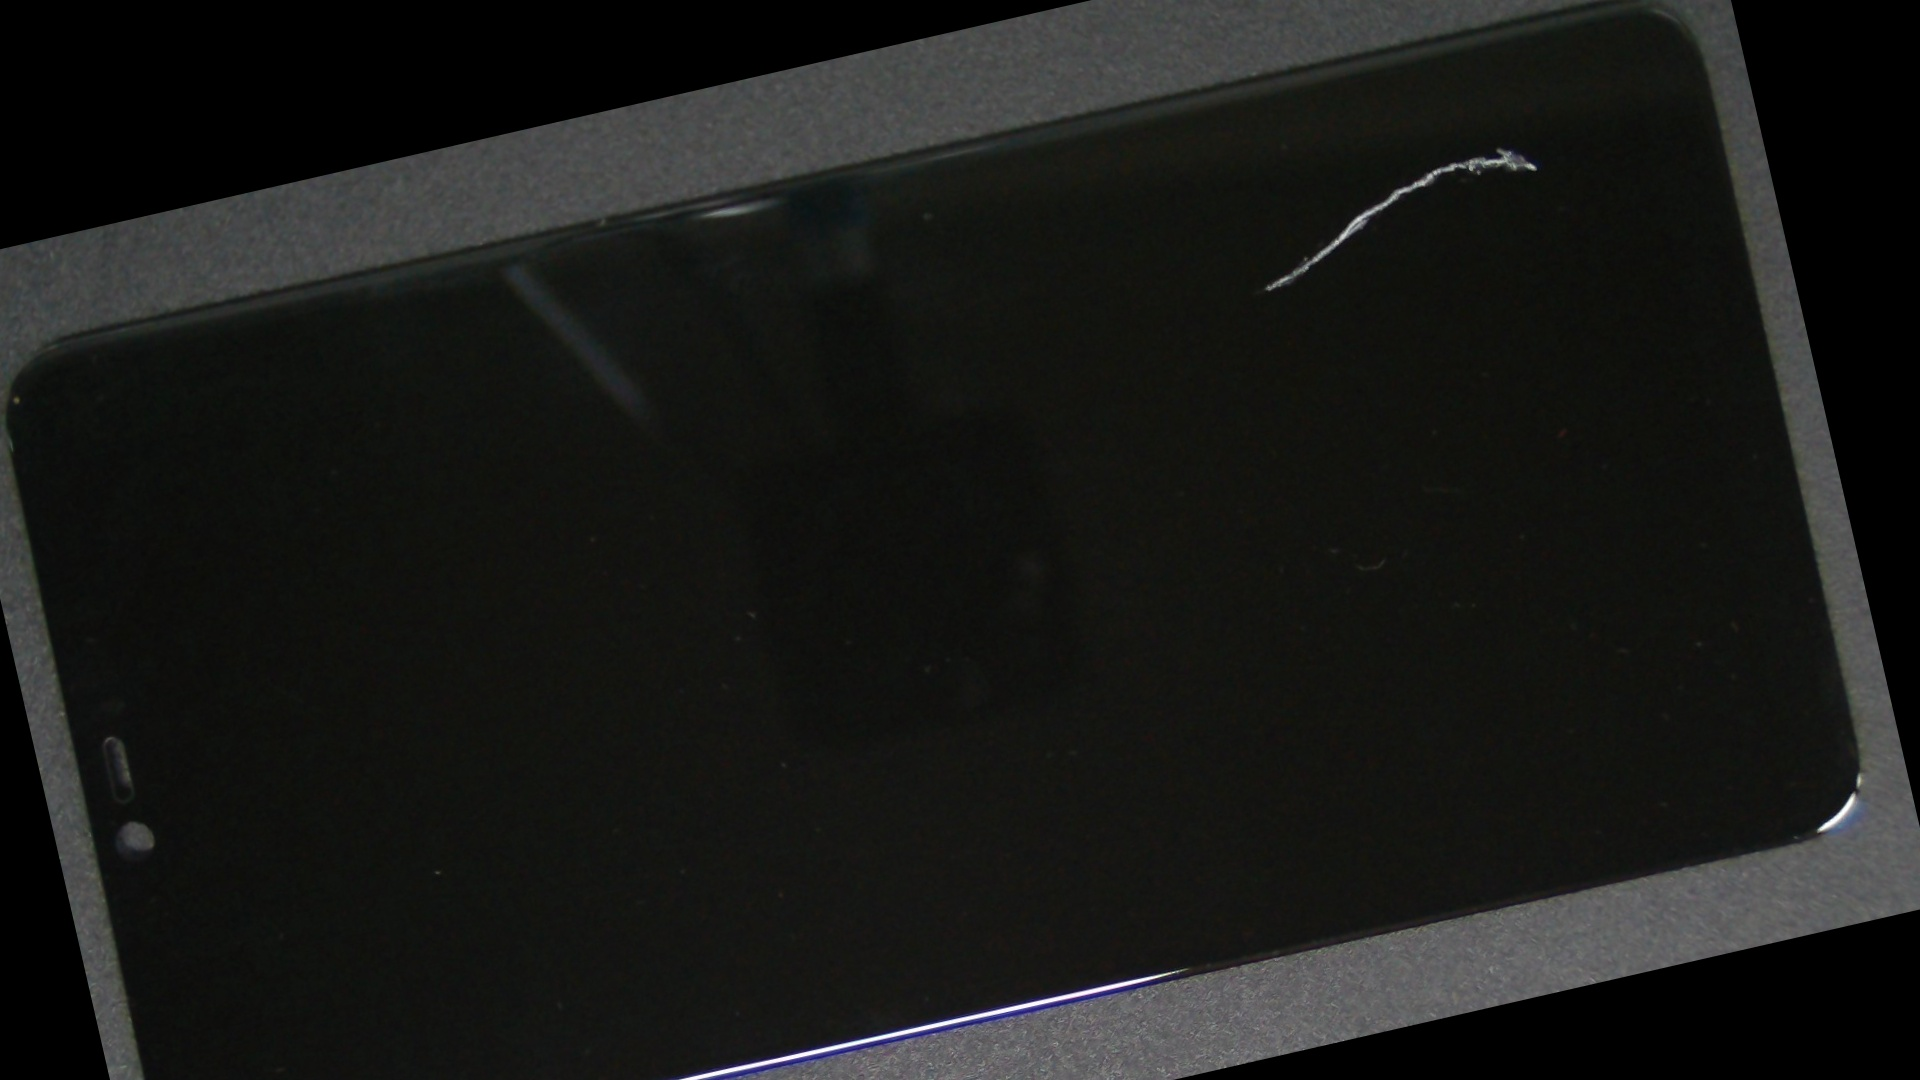oil: (711, 0, 1778, 433)
